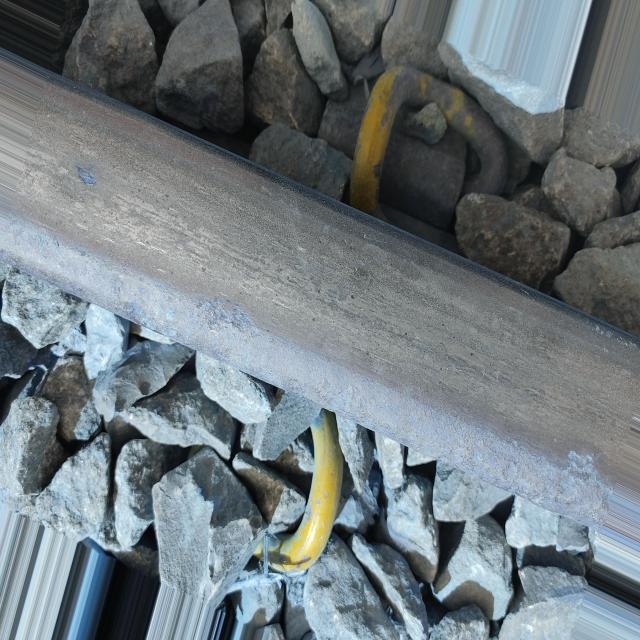Good Fasteners: (317, 67, 508, 231), (253, 409, 344, 574)
